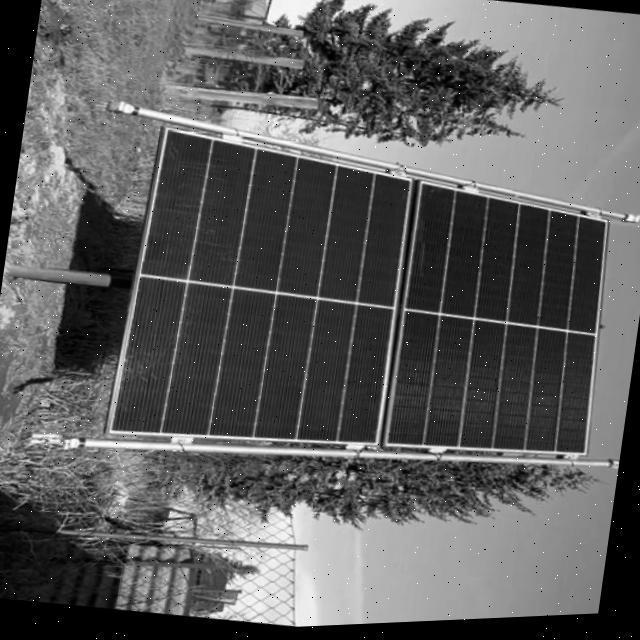Normal Solar Panel: (106, 109, 625, 501)
